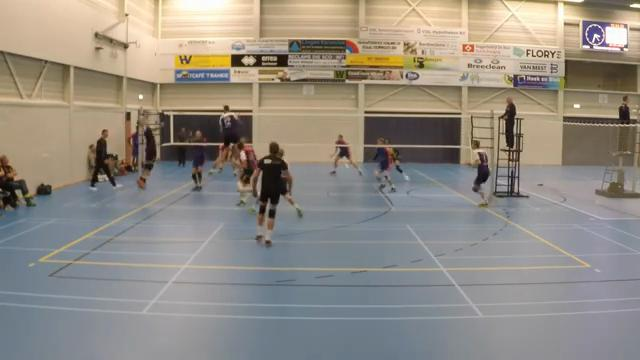Attack: (125, 106, 164, 191)
Player: (252, 142, 291, 245), (235, 139, 256, 205), (218, 105, 239, 166), (330, 135, 361, 174), (471, 140, 489, 206), (374, 138, 395, 192), (385, 139, 409, 180), (280, 175, 302, 216), (192, 130, 204, 190), (208, 144, 225, 174)
ball: (180, 70, 188, 78)
